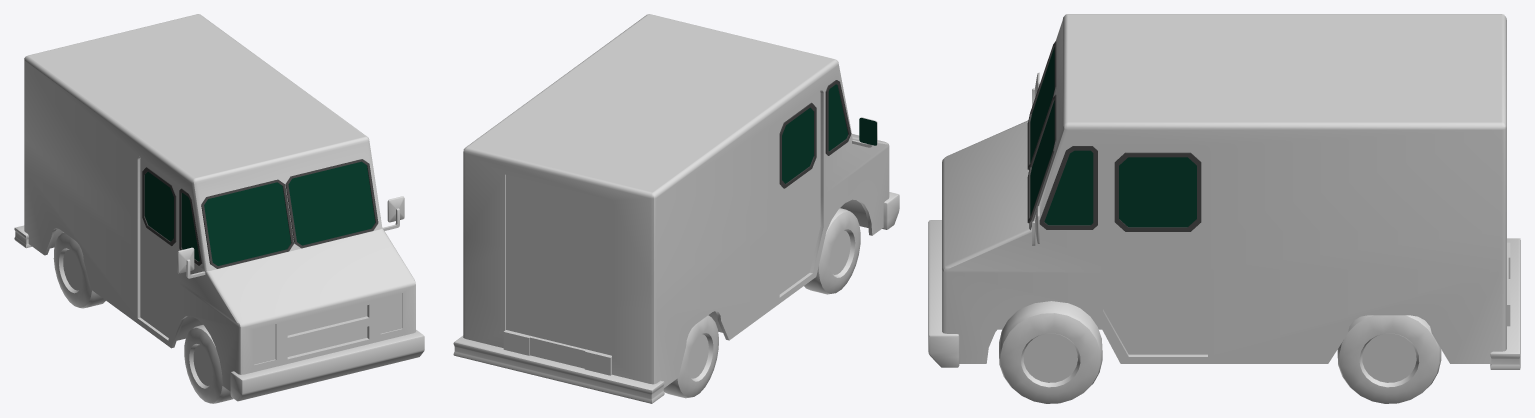
File: cesium-milk-truck.glb
3 views of the same model, side by side, from view 1: azimuth 30°, elevation 25°; view 2: azimuth 150°, elevation 25°; view 3: azimuth 270°, elevation 25° (orthographic). The views are drawn at different scales.
Parts seen in each view (by area): view 1: Cesium_Milk_Truck, Wheels, Wheels.001; view 2: Cesium_Milk_Truck, Wheels, Wheels.001; view 3: Cesium_Milk_Truck, Wheels, Wheels.001.
Part boxes in pixels (box(x1,y1,x2,y2)): Cesium_Milk_Truck: box(14, 14, 424, 401); Wheels: box(184, 325, 233, 403); Wheels.001: box(53, 232, 105, 308); Cesium_Milk_Truck: box(453, 14, 899, 403); Wheels: box(804, 208, 860, 294); Wheels.001: box(663, 315, 718, 398); Cesium_Milk_Truck: box(928, 14, 1520, 369); Wheels: box(999, 301, 1102, 403); Wheels.001: box(1337, 315, 1441, 403).
Size of the model in its own units: 2.79 by 2.58 by 4.87.
